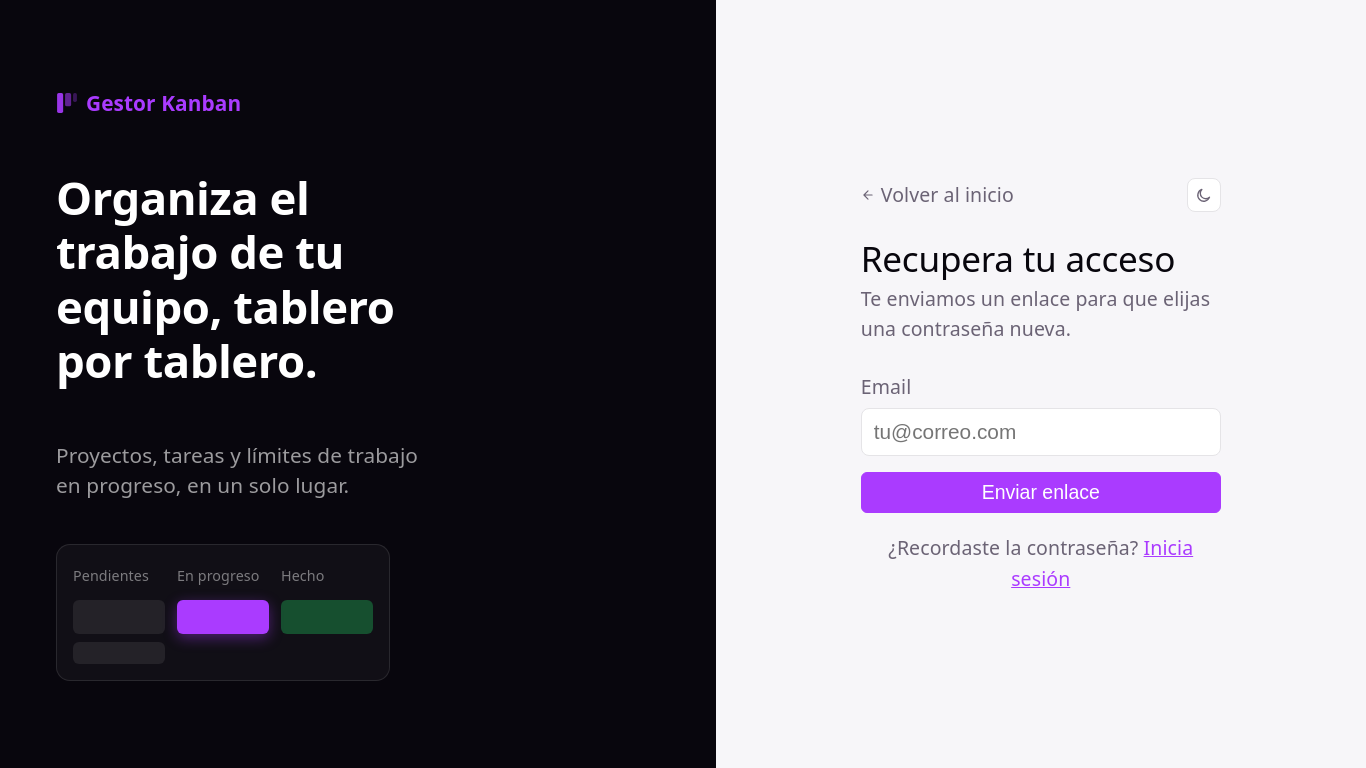
Test: solicita un enlace de recuperación y muestra un mensaje neutral de éxito
Type "ana@correo.com" into the field labelled "Email".
click(1041, 432); type("ana@correo.com")  # box [861,408,1221,456]
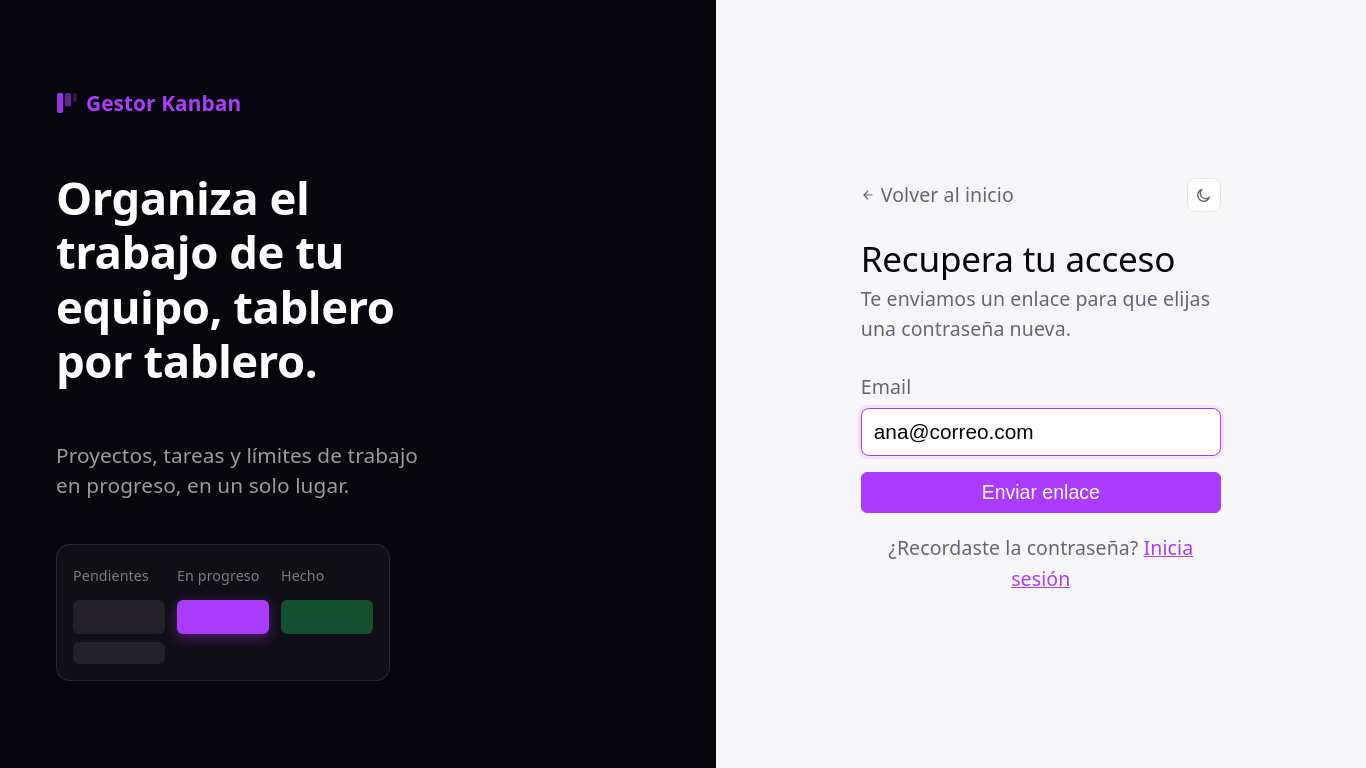
Click the button "Enviar enlace".
click(1041, 493)  # box [861,472,1221,513]
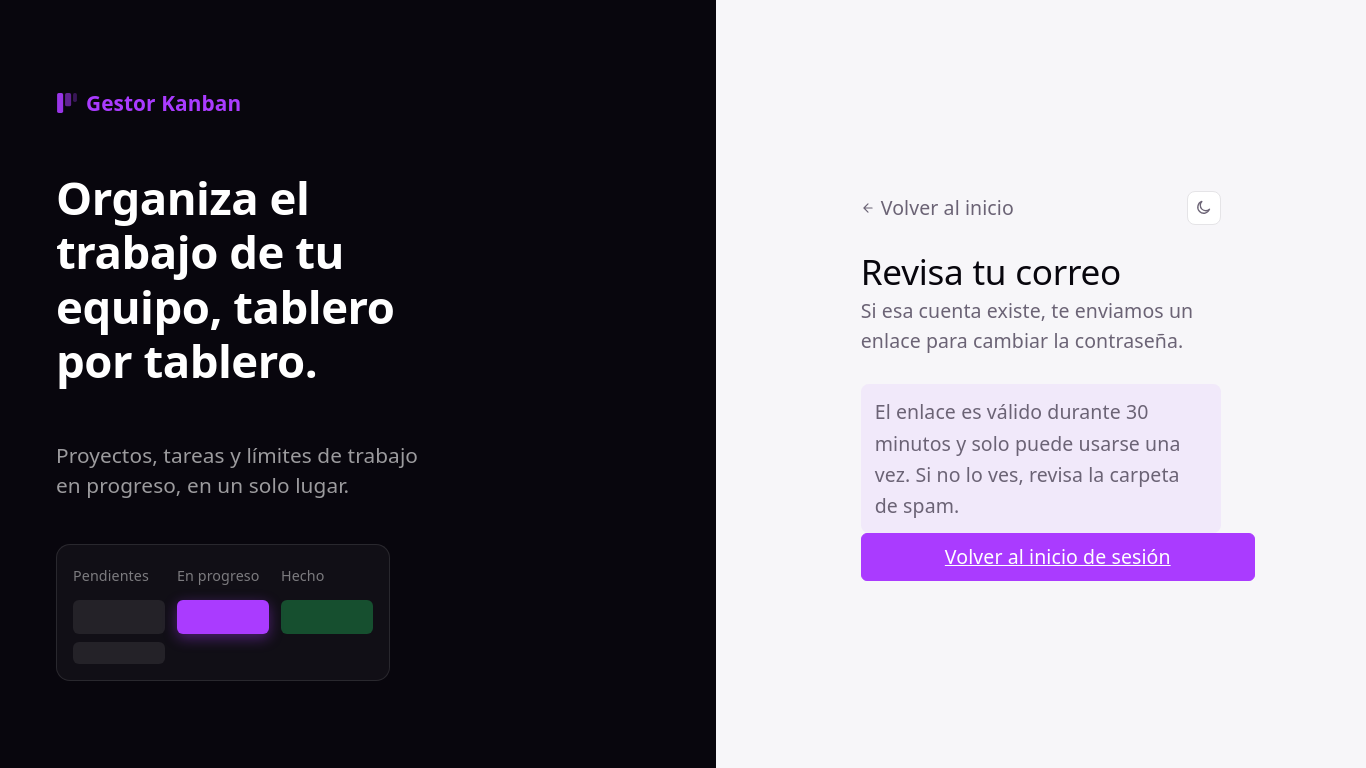
Expected: the heading "Revisa tu correo" is shown, [861,247,1121,295]
Expected: the text "Si esa cuenta existe" is shown, [861,297,1193,354]
